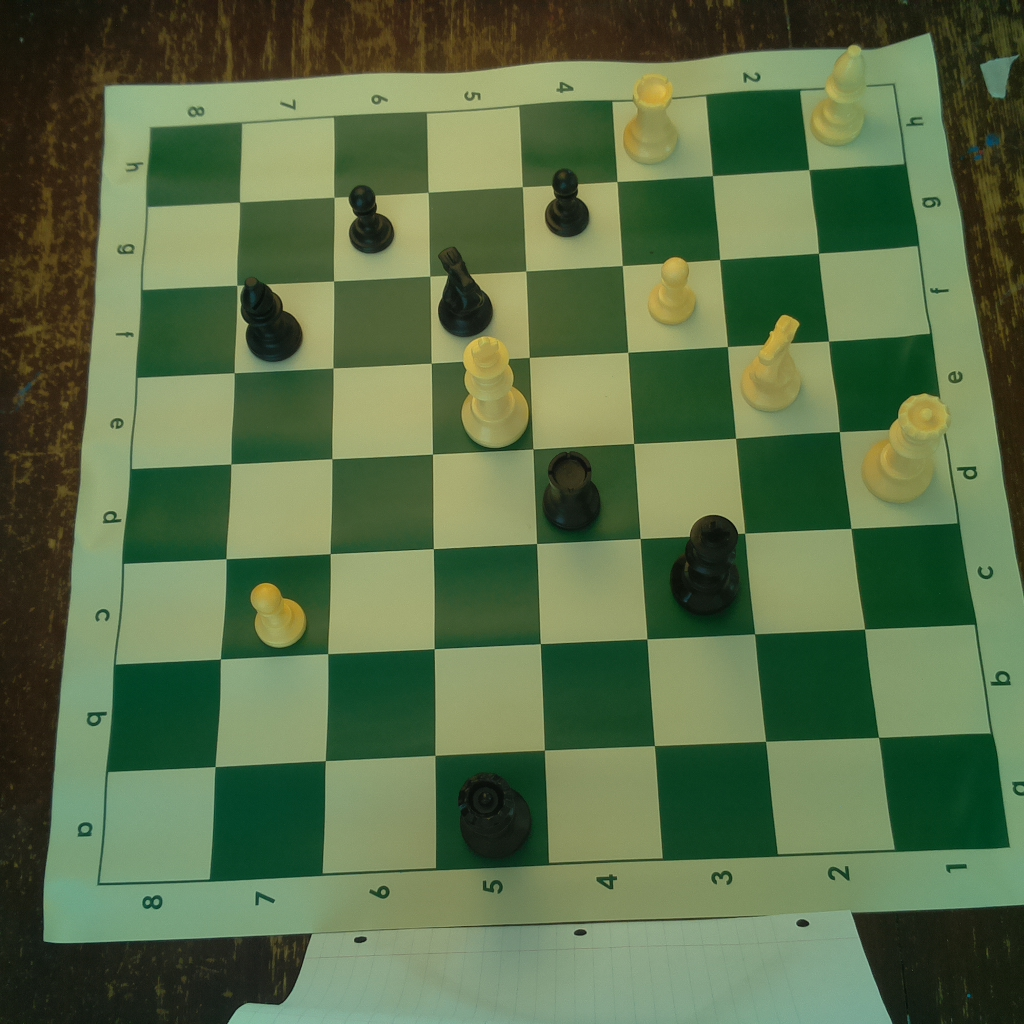black_bishop: (234, 273, 311, 364)
black_king: (663, 506, 745, 618)
black_knight: (428, 241, 496, 335)
black_pawn: (345, 182, 401, 256), (541, 165, 596, 238)
black_queen: (457, 767, 537, 864)
black_rook: (540, 449, 608, 532)
file_a: (97, 735, 1010, 882)
file_b: (105, 622, 994, 770)
file_c: (115, 523, 977, 664)
file_d: (124, 427, 959, 566)
file_e: (133, 332, 945, 470)
file_f: (137, 244, 932, 377)
file_g: (144, 162, 919, 291)
file_h: (146, 90, 908, 209)
outline: (98, 84, 1012, 884)
rank_1: (801, 84, 1011, 854)
rank_2: (707, 91, 894, 853)
rank_3: (612, 95, 779, 861)
rank_4: (520, 100, 663, 862)
rank_5: (425, 104, 550, 873)
rank_6: (320, 114, 436, 871)
rank_7: (210, 117, 334, 884)
rank_8: (99, 122, 245, 882)
white_bishop: (810, 41, 872, 149)
white_king: (458, 334, 531, 448)
white_knight: (736, 310, 806, 413)
white_pawn: (245, 580, 311, 652), (644, 252, 703, 325)
white_queen: (858, 387, 953, 506)
white_rook: (620, 70, 683, 165)
